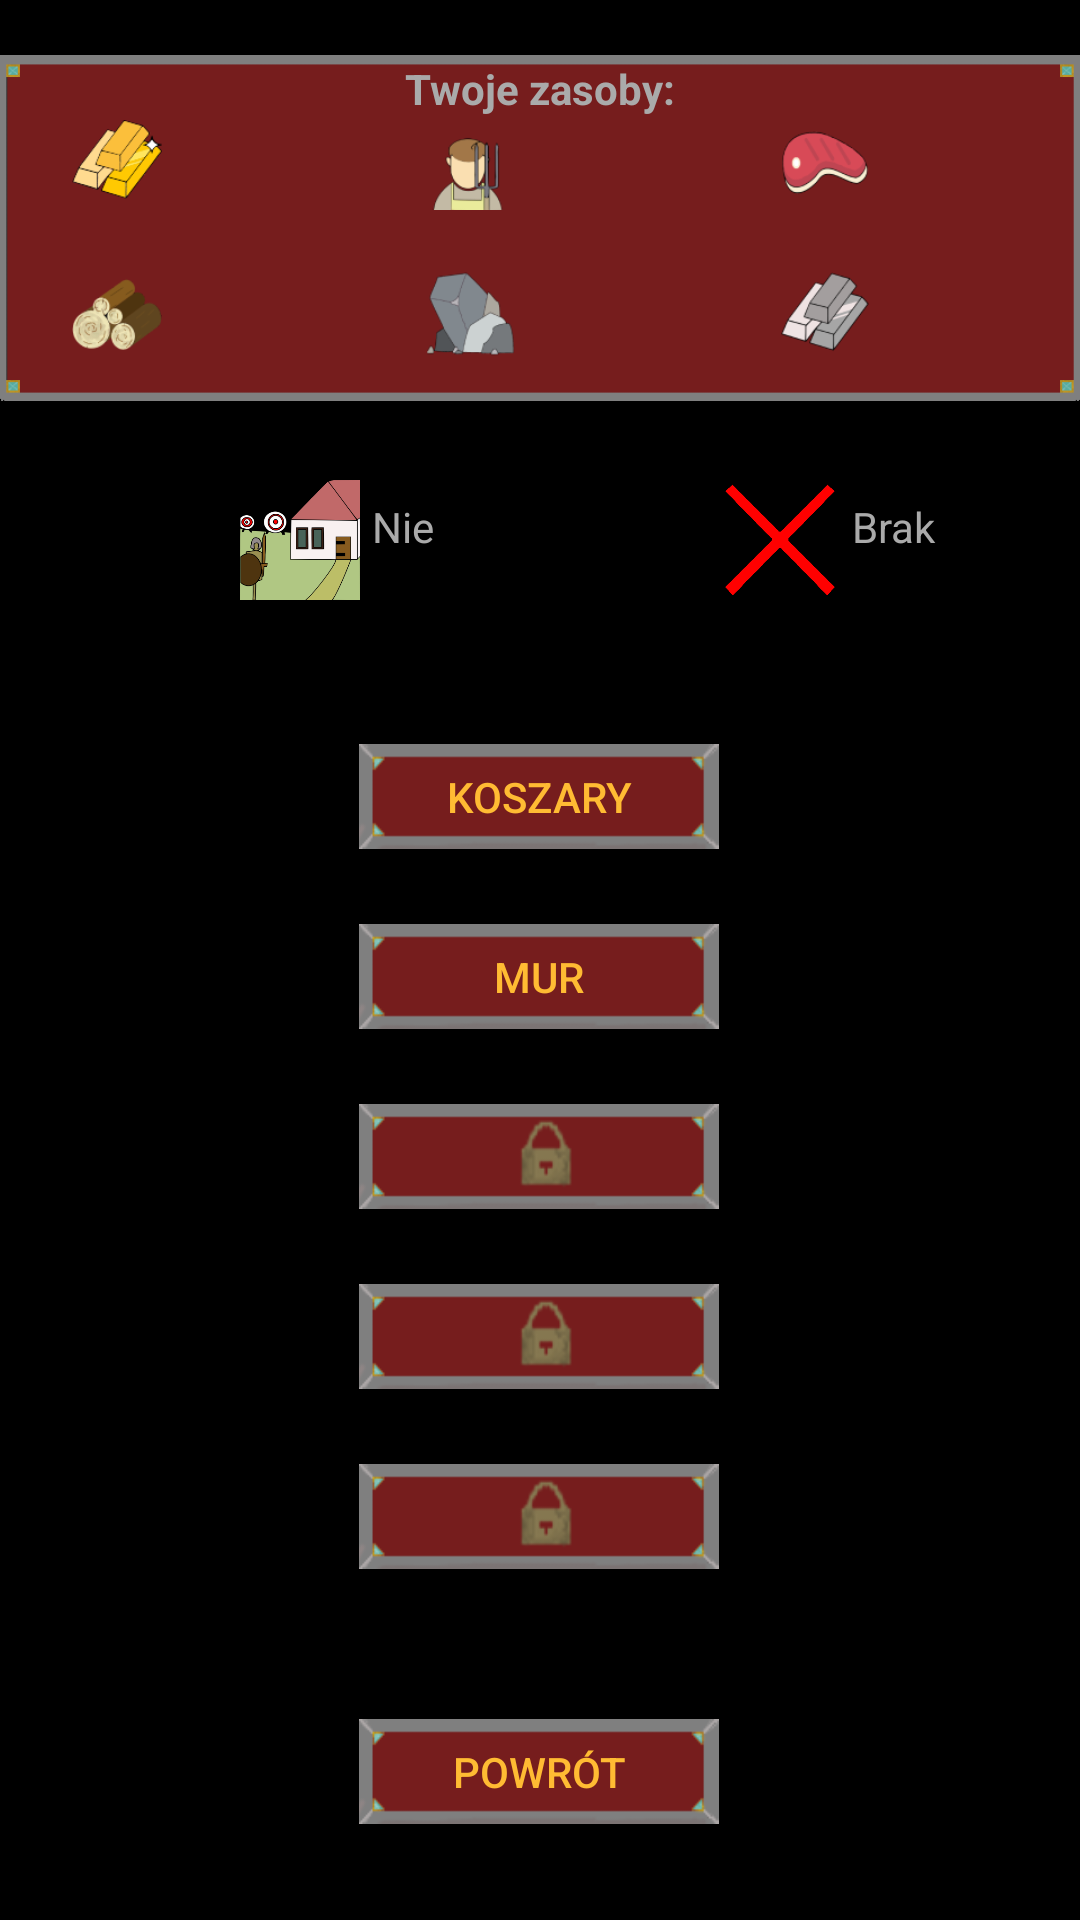

Where icons sit on this 1080×1920 app screen, as (x1, y1, x2, y2):
ikona baraki: (240, 480, 360, 600)
przycisk zablokowany: (359, 1104, 719, 1209), (359, 1284, 719, 1389), (359, 1464, 719, 1569)
